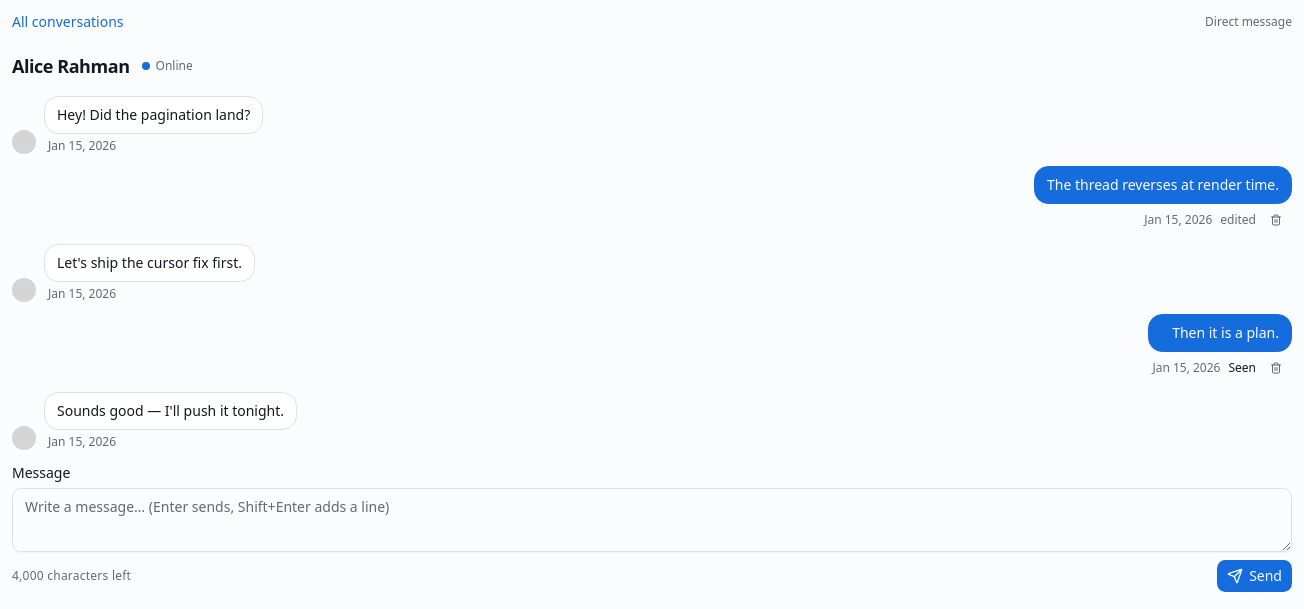
Test: MessageThread › offers a delete control only on my own messages
Check: the text "Hey! Did the pagination land?" is shown, box [44,96,263,134]
Click the button named "Delete message" next to "edited" at (1276, 220), box [1264,208,1288,232]
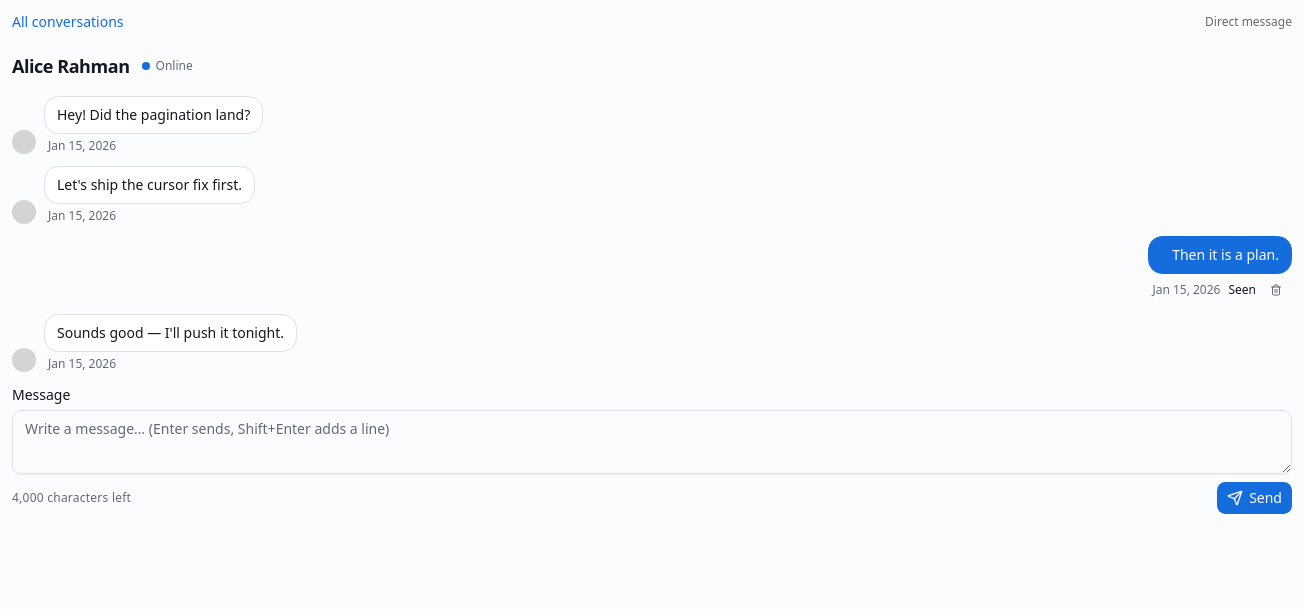
Check: the text "Then it is a plan." is shown, box [1148,236,1292,274]
Check: the text "The thread reverses at render time." is gone
